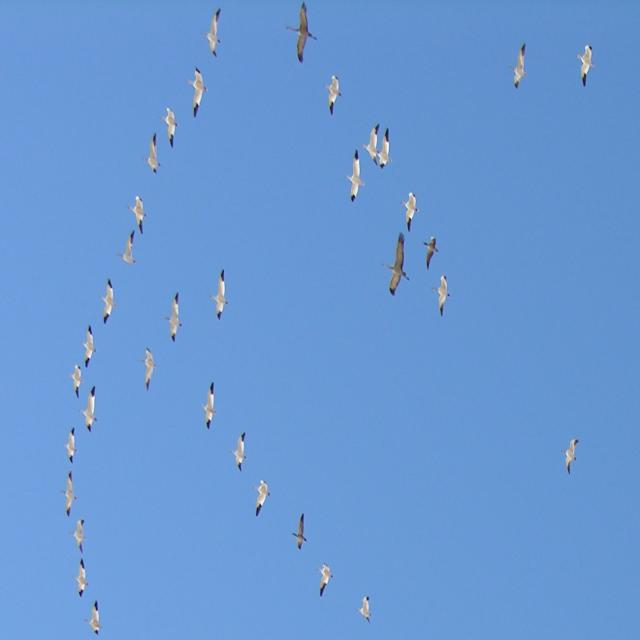bird: (292, 2, 318, 66), (389, 238, 411, 296), (349, 144, 367, 206), (189, 66, 208, 122), (366, 124, 390, 168), (203, 6, 222, 61), (165, 288, 183, 344), (212, 269, 230, 324), (432, 270, 451, 320), (512, 40, 530, 90), (562, 436, 582, 479), (100, 278, 117, 328), (139, 348, 157, 395), (577, 43, 595, 89), (129, 194, 148, 237), (402, 189, 420, 234), (325, 74, 343, 119), (82, 388, 100, 432), (161, 108, 179, 151), (63, 468, 78, 519), (202, 380, 217, 430), (81, 322, 96, 369), (146, 133, 162, 177), (120, 229, 138, 268), (254, 479, 271, 520), (68, 515, 86, 553), (292, 510, 308, 552), (232, 430, 248, 472), (74, 556, 89, 600), (316, 563, 334, 599), (86, 599, 103, 636), (422, 233, 438, 271), (63, 425, 77, 465), (68, 362, 82, 400), (357, 594, 373, 622)
